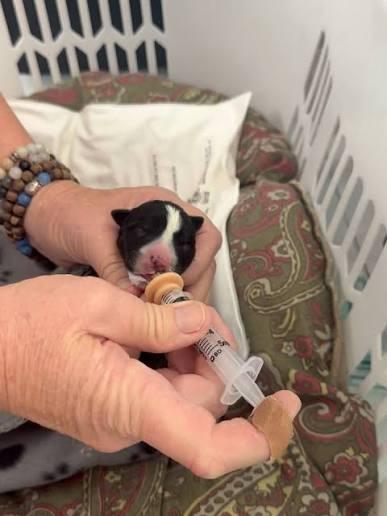puppy-dog: (106, 200, 205, 292)
